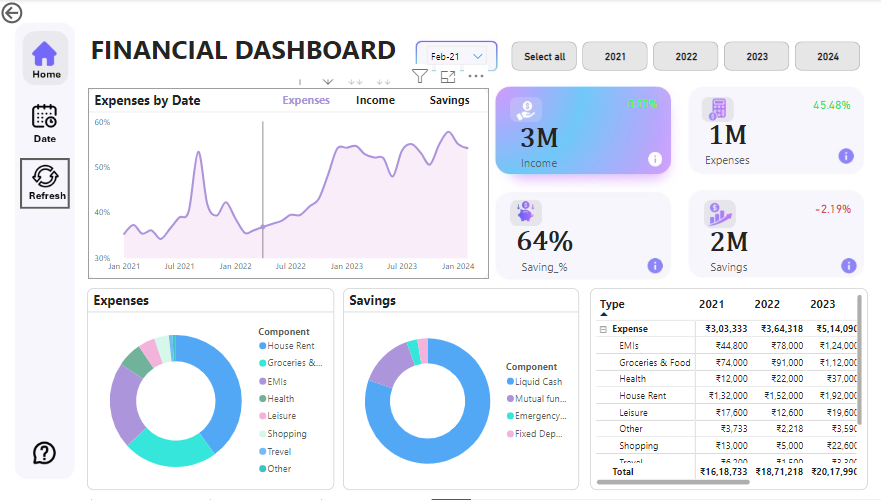

The page's visual inventory and layout, read from the dashboard file:
{"tool":"powerbi","page":{"name":"Financial Dashboard","canvas":[1280,720],"ordinal":0},"visuals":[{"type":"card","fields":{"Values":["FinData.Expenses"]},"box":[992.2,137.7,116.2,130.5],"z":0},{"type":"card","fields":{"Values":["FinData.Income"]},"box":[690.1,152,178.8,110.8],"z":1000},{"type":"card","fields":{"Values":["FinData.Saving_%"]},"box":[713.3,289.6,148.4,134.1],"z":4000},{"type":"card","fields":{"Values":["FinData.Savings"]},"box":[990.4,302.1,123.4,109.1],"z":5000},{"type":"advancedSlicerVisual","fields":{"Values":["FinData.Year"]},"box":[734,56,514,52],"z":6000},{"type":"donutChart","title":"Savings ","fields":{"Y":["FinData.Savings"],"Category":["FinData.Component"]},"box":[497,416.5,339.7,291.4],"z":7000},{"type":"donutChart","title":"Expenses ","fields":{"Category":["FinData.Component"],"Y":["FinData.Expenses"]},"box":[128.7,416.5,355.8,291.4],"z":8000},{"type":"stackedAreaChart","fields":{"Y":["FinData.Line_selection_measure"],"Category":["FinData.Date.Variation.Date Hierarchy.Year","FinData.Date.Variation.Date Hierarchy.Quarter","FinData.Date.Variation.Date Hierarchy.Month","FinData.Date.Variation.Date Hierarchy.Day"]},"box":[129.2,127.9,577.4,275.3],"z":9000},{"type":"pivotTable","fields":{"Values":["FinData.Total_Value"],"Rows":["FinData.Type","FinData.Component"],"Columns":["FinData.Year"]},"box":[852.7,416.5,400.4,291.4],"z":10000},{"type":"advancedSlicerVisual","fields":{"Values":["Line_Selection.Type"]},"box":[391.5,116.2,321.8,50.1],"z":11000},{"type":"slicer","fields":{"Values":["Selected_Date.Month_year"]},"box":[608,58,106,56],"z":12000},{"type":"card","fields":{"Values":["FinData.Expense_%"]},"box":[1148,114,106,80],"z":13000},{"type":"card","fields":{"Values":["FinData.INCOME_GROWTH%"]},"box":[882,124,92,56],"z":14000},{"type":"card","fields":{"Values":["FinData.SAVING_GROWTH%"]},"box":[1156,282,92,40],"z":15000},{"type":"textbox","box":[128,42,466,74],"z":16000},{"type":"actionButton","box":[0,0,100,40],"z":17000},{"type":"actionButton","box":[31.7,138.3,68.3,81.7],"z":18000},{"type":"actionButton","box":[31.7,228.3,71.7,73.3],"z":19000}]}

Visuals, with their boxes on the page's 1280x720 design canvas (x1, y1, x2, y2). These are canvas units, not pixel positions in the 881x500 screenshot, which may show the page scaled, cropped or inside an application window:
card - FinData.Expenses: <box>992,138,1108,268</box>
card - FinData.Income: <box>690,152,869,263</box>
card - FinData.Saving_%: <box>713,290,862,424</box>
card - FinData.Savings: <box>990,302,1114,411</box>
advancedSlicerVisual - FinData.Year: <box>734,56,1248,108</box>
"Savings " donutChart: <box>497,416,837,708</box>
"Expenses " donutChart: <box>129,416,484,708</box>
stackedAreaChart - FinData.Line_selection_measure x FinData.Date.Variation.Date Hierarchy.Year: <box>129,128,707,403</box>
pivotTable - FinData.Total_Value x FinData.Type: <box>853,416,1253,708</box>
advancedSlicerVisual - Line_Selection.Type: <box>392,116,713,166</box>
slicer - Selected_Date.Month_year: <box>608,58,714,114</box>
card - FinData.Expense_%: <box>1148,114,1254,194</box>
card - FinData.INCOME_GROWTH%: <box>882,124,974,180</box>
card - FinData.SAVING_GROWTH%: <box>1156,282,1248,322</box>
textbox: <box>128,42,594,116</box>
actionButton: <box>0,0,100,40</box>
actionButton: <box>32,138,100,220</box>
actionButton: <box>32,228,103,302</box>
